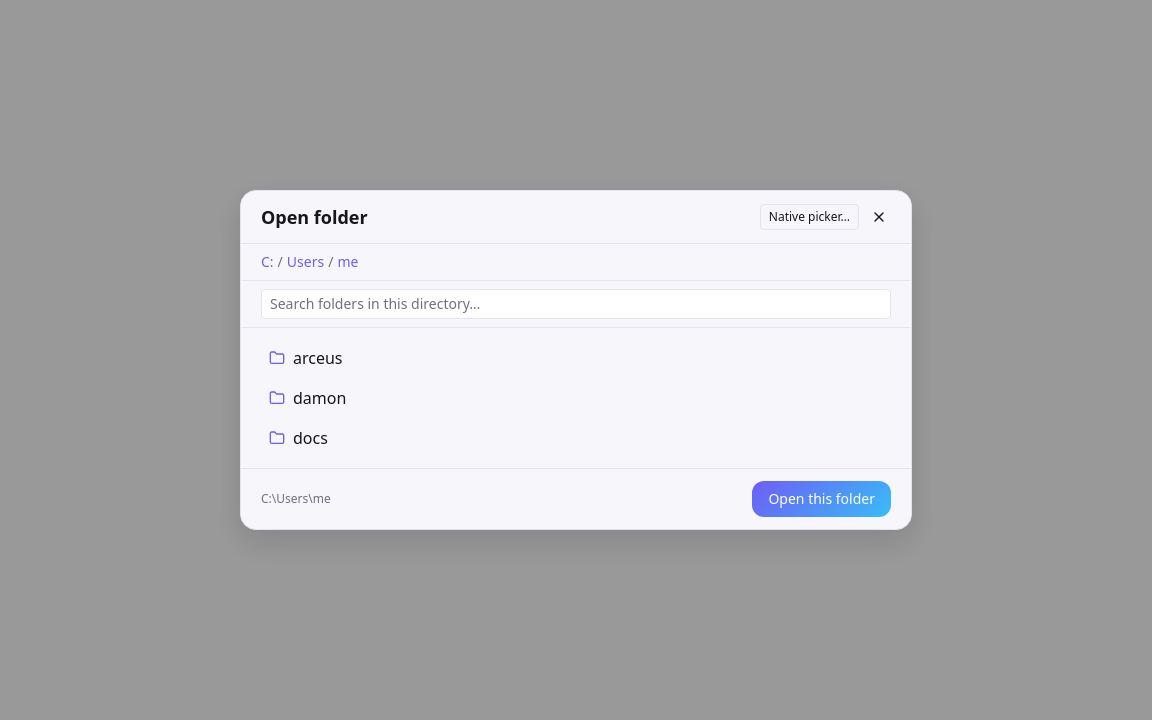
Test case: FolderPickerModal › filters the folder list by the search box
The width and height of the screenshot is (1152, 720).
Expected: the text "damon" is shown, [293,386,346,410]
Type "da" into the search field labelled "Search folders" at (576, 304), box [261,289,891,319]
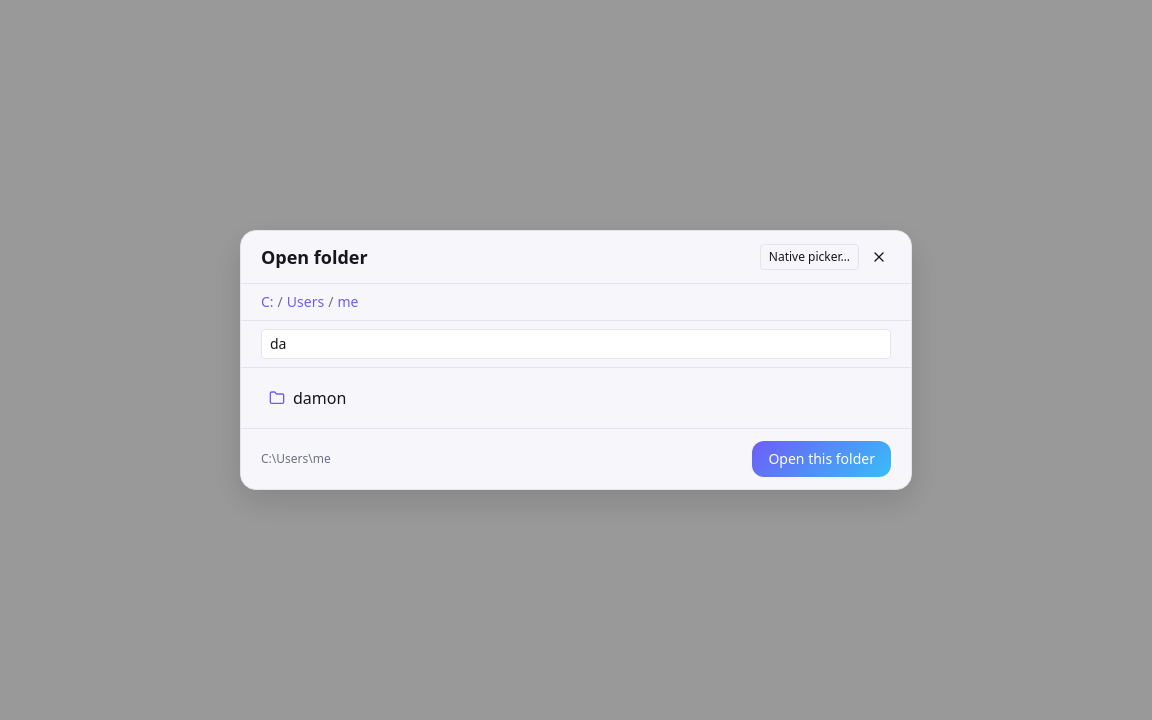
Expected: the text "damon" is shown, [293,386,346,410]
Now the button "arceus" is gone
Now the button "docs" is gone
